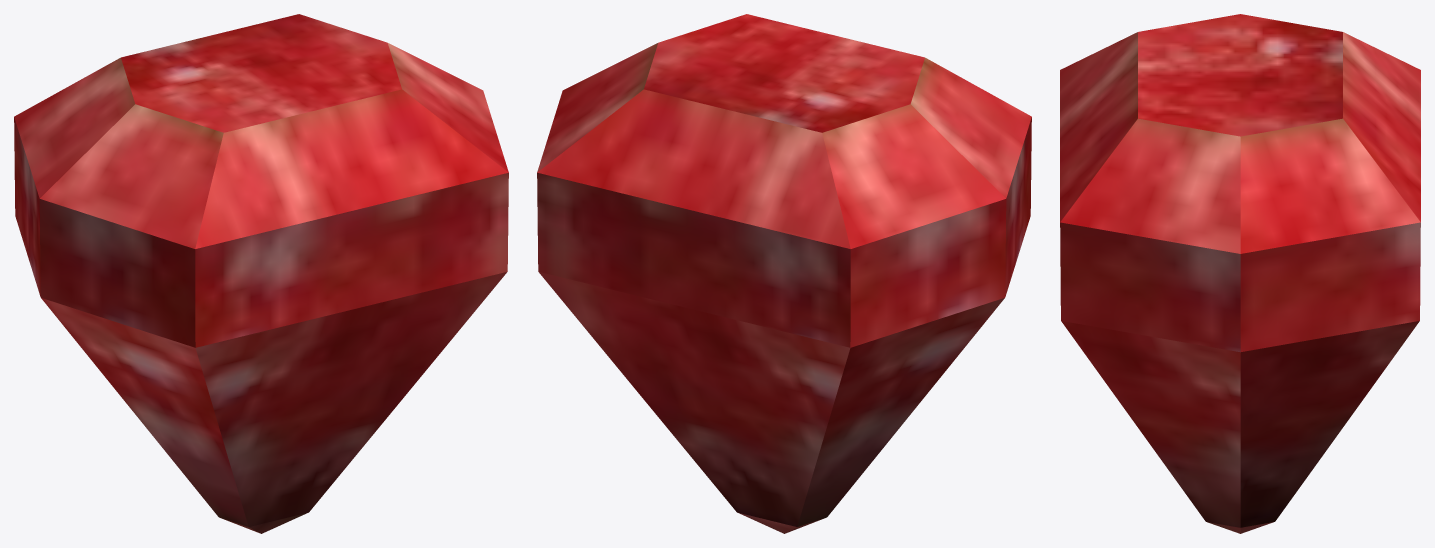
Rendered from RUBIN_CRYSTAL.glb.
3 views of the same model, side by side, from view 1: azimuth 30°, elevation 25°; view 2: azimuth 150°, elevation 25°; view 3: azimuth 270°, elevation 25° (orthographic).
Parts seen in each view (by area): view 1: RUBIN_CRYSTAL; view 2: RUBIN_CRYSTAL; view 3: RUBIN_CRYSTAL.
Part boxes in pixels (x1,y1,x2,y2): RUBIN_CRYSTAL: (14,14,508,533); RUBIN_CRYSTAL: (537,14,1031,533); RUBIN_CRYSTAL: (1060,14,1420,533).
Bounding box in the file's own units: 0.0959 × 0.0951 × 0.0678.
1 material, 1 textured.
